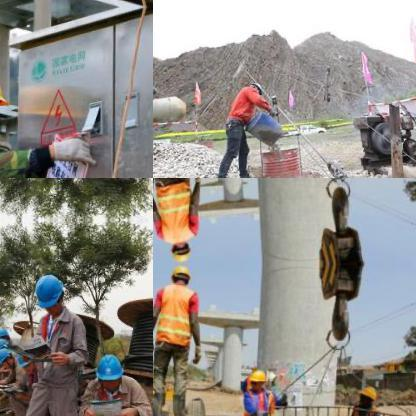Helmet: (32, 270, 66, 312), (92, 350, 121, 390), (247, 366, 268, 392), (355, 382, 377, 406), (168, 263, 190, 283), (168, 241, 190, 261), (0, 347, 14, 367), (249, 78, 264, 96), (0, 337, 12, 352), (0, 326, 10, 341)
